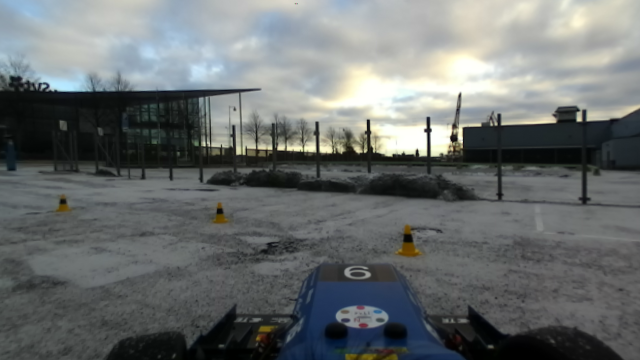yellow: (396, 224, 423, 259), (54, 194, 73, 215), (210, 203, 228, 224)
